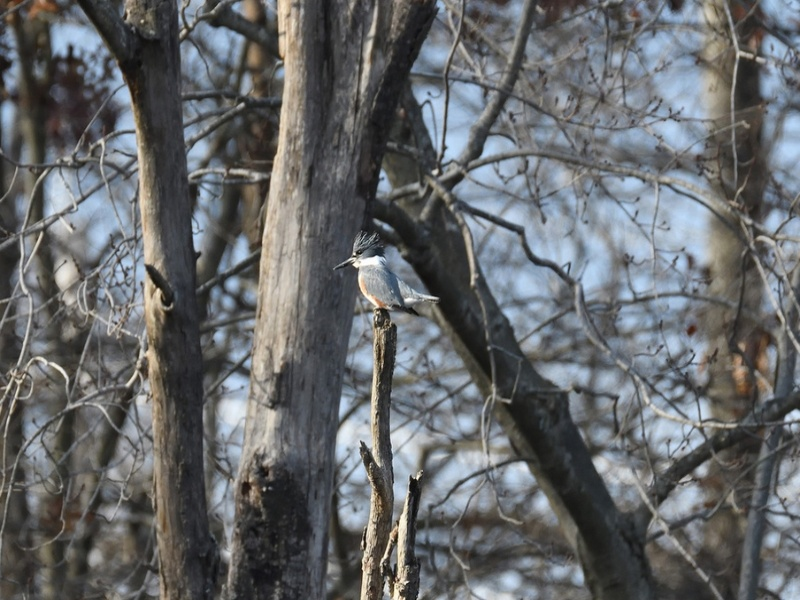kingfisher: (326, 230, 445, 330)
